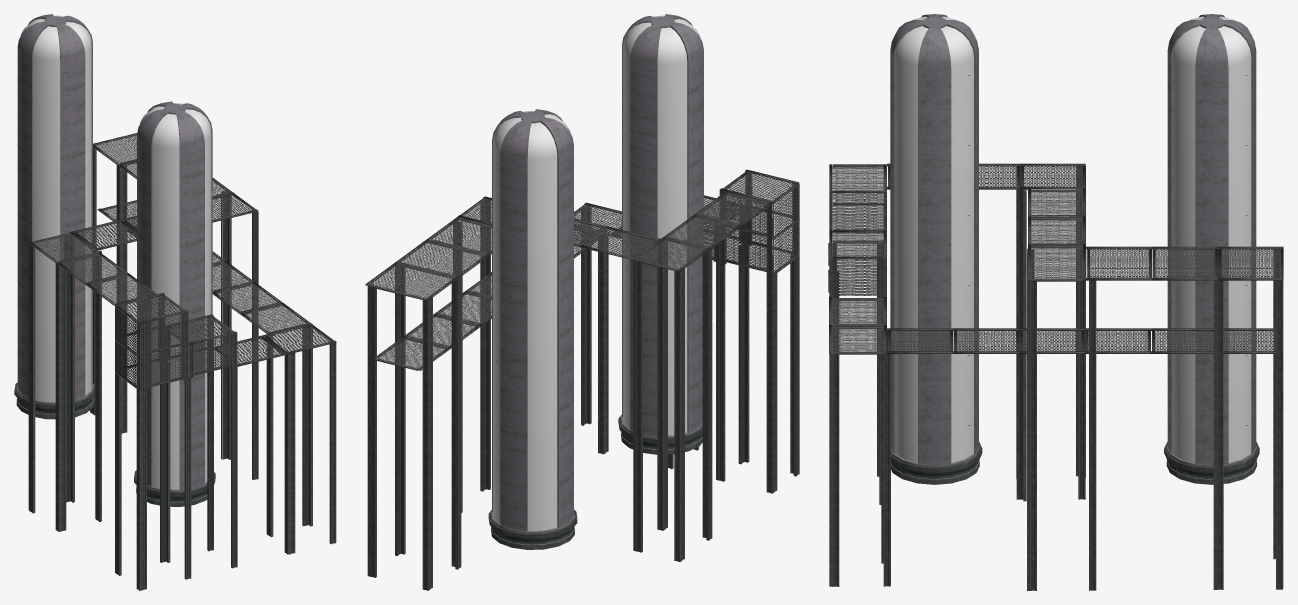
Rendered from SM_Reactor.glb.
3 renders of one model, left to right at view 1: azimuth 30°, elevation 25°; view 2: azimuth 150°, elevation 25°; view 3: azimuth 270°, elevation 25°, orthographic. The views are drawn at different scales.
Visible parts, largest first — view 1: scaffolding, lightgreymetal.001, glass, scaffoldingfullbot, darkgreymetal.001; view 2: scaffolding, lightgreymetal.001, glass, scaffoldingfullbot, darkgreymetal.001; view 3: scaffolding, glass, lightgreymetal.001, scaffoldingfullbot, darkgreymetal.001.
Part boxes in pixels (x1=…): scaffolding: x1=28, y1=133, x2=336, y2=523; lightgreymetal.001: x1=16, y1=14, x2=212, y2=502; glass: x1=20, y1=15, x2=211, y2=489; scaffoldingfullbot: x1=28, y1=347, x2=336, y2=590; darkgreymetal.001: x1=14, y1=382, x2=215, y2=506; scaffolding: x1=365, y1=169, x2=799, y2=518; lightgreymetal.001: x1=491, y1=14, x2=703, y2=545; glass: x1=493, y1=15, x2=700, y2=530; scaffoldingfullbot: x1=367, y1=351, x2=799, y2=590; darkgreymetal.001: x1=488, y1=415, x2=702, y2=549; scaffolding: x1=828, y1=163, x2=1283, y2=513; glass: x1=895, y1=16, x2=1251, y2=463; lightgreymetal.001: x1=890, y1=14, x2=1257, y2=479; scaffoldingfullbot: x1=829, y1=399, x2=1283, y2=590; darkgreymetal.001: x1=891, y1=441, x2=1259, y2=484.
Bounding box in the file's own units: 23.76 × 47.63 × 39.42.
6 materials, 6 textured.
